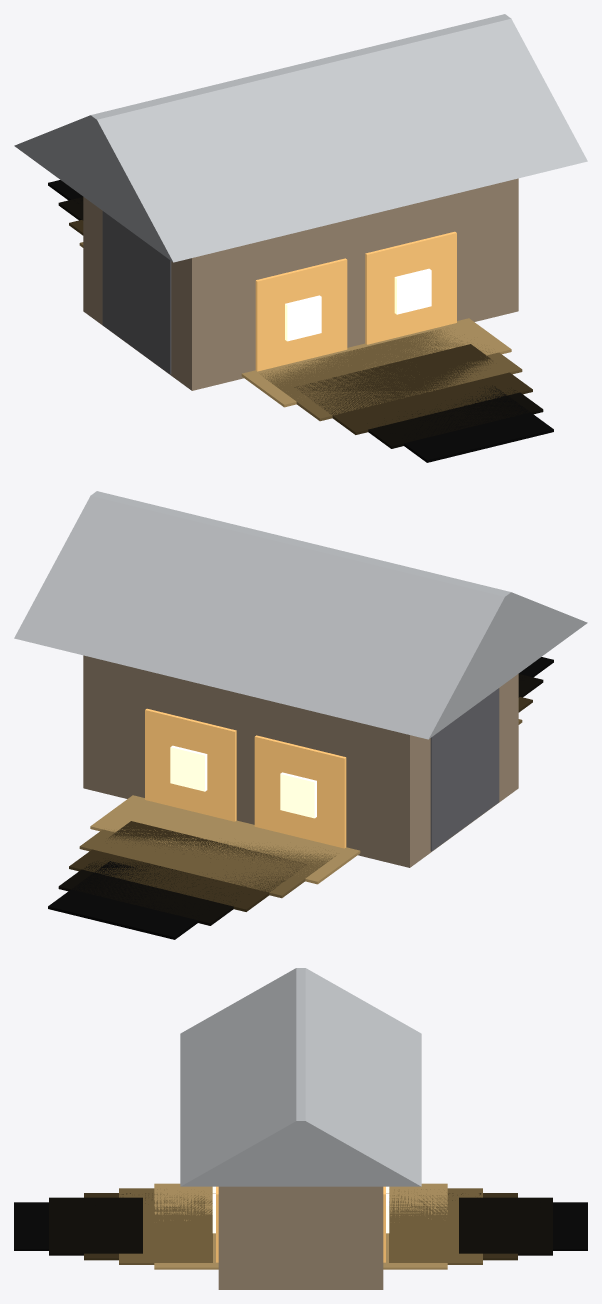
Rendered from vil_barn.glb.
3 renders of one model, top to bottom at view 1: azimuth 30°, elevation 25°; view 2: azimuth 150°, elevation 25°; view 3: azimuth 270°, elevation 25°, orthographic. The views are drawn at different scales.
Parts seen in each view (by area): view 1: vil_barn; view 2: vil_barn; view 3: vil_barn.
Boxes of the visible parts, x1=… form: vil_barn: x1=14, y1=14, x2=587, y2=462; vil_barn: x1=14, y1=491, x2=587, y2=939; vil_barn: x1=14, y1=968, x2=587, y2=1289.
Bounding box in the file's own units: 0.8976 × 0.5059 × 1.42.
